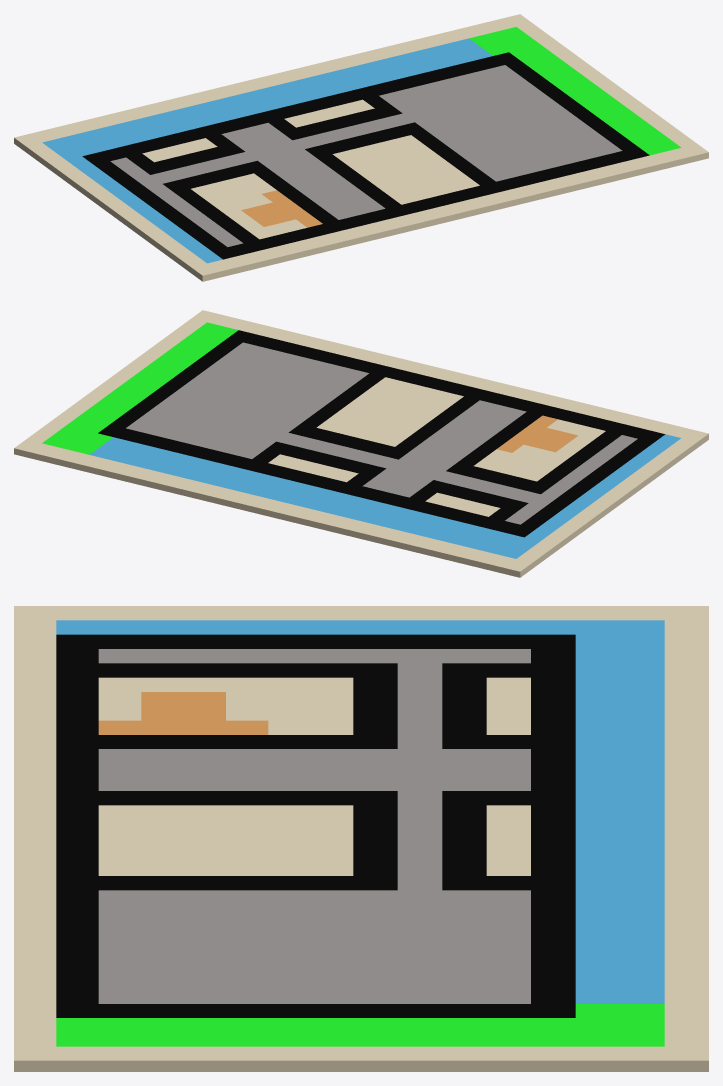
File: drawing7.fbx
3 renders of one model, top to bottom at view 1: azimuth 30°, elevation 25°; view 2: azimuth 150°, elevation 25°; view 3: azimuth 270°, elevation 25°, orthographic. The views are drawn at different scales.
Parts seen in each view (by area): view 1: Cube; view 2: Cube; view 3: Cube.
Part boxes in pixels (bbox=[...]): Cube: bbox=[14, 14, 708, 281]; Cube: bbox=[14, 310, 708, 577]; Cube: bbox=[14, 606, 708, 1071].
Bounding box in the file's own units: 87 × 1 × 56.2.
